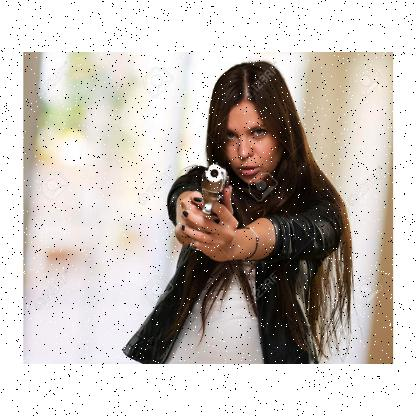gun: (191, 162, 233, 250)
